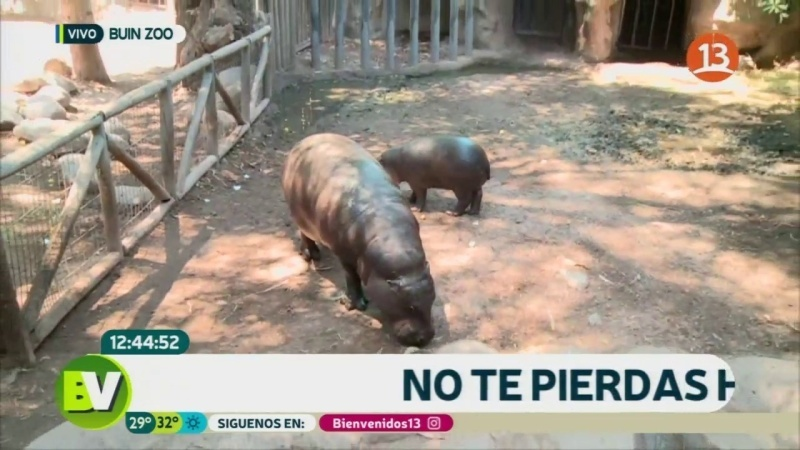hipopotamo: (268, 123, 441, 354), (368, 110, 499, 230)
